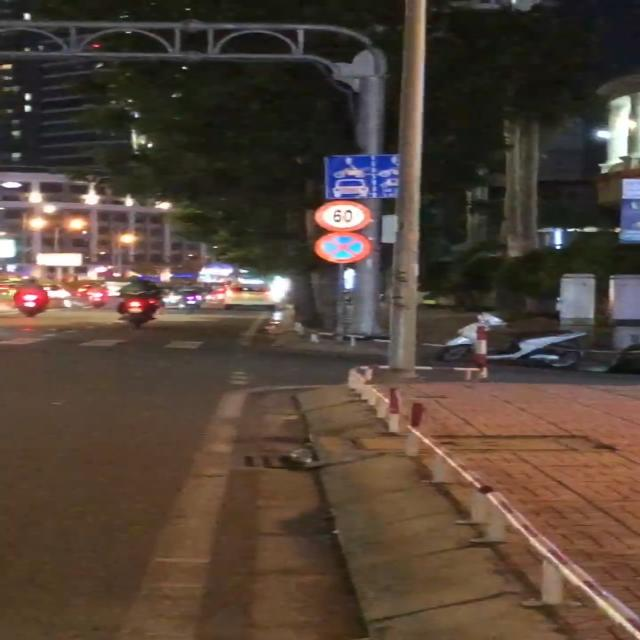Bien bao cam dung xe va do xe: (309, 230, 379, 266)
Bien bao toc do toi da cho phep: (311, 195, 371, 233)
